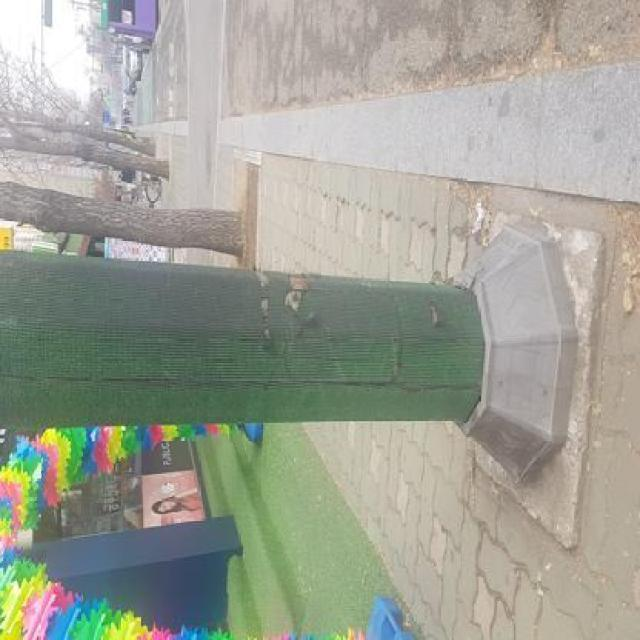pole: (0, 207, 591, 496)
